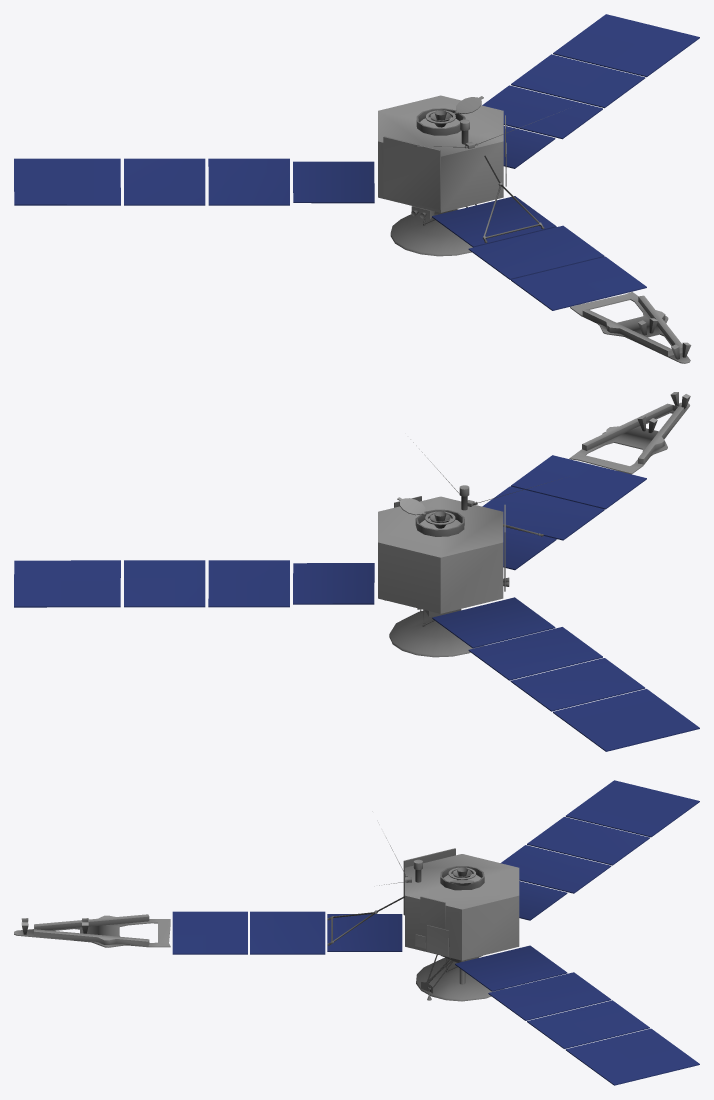
3 renders of one model, top to bottom at view 1: azimuth 30°, elevation 25°; view 2: azimuth 150°, elevation 25°; view 3: azimuth 270°, elevation 25°, orthographic. The views are drawn at different scales.
Visible parts, largest first — view 1: refl.112; view 2: refl.112; view 3: refl.112.
Boxes of the visible parts, <box> form: refl.112: <box>14,14,699,363</box>; refl.112: <box>14,392,699,751</box>; refl.112: <box>14,780,699,1085</box>.
Bounding box in the file's own units: 0.5 × 0.1152 × 0.476.
